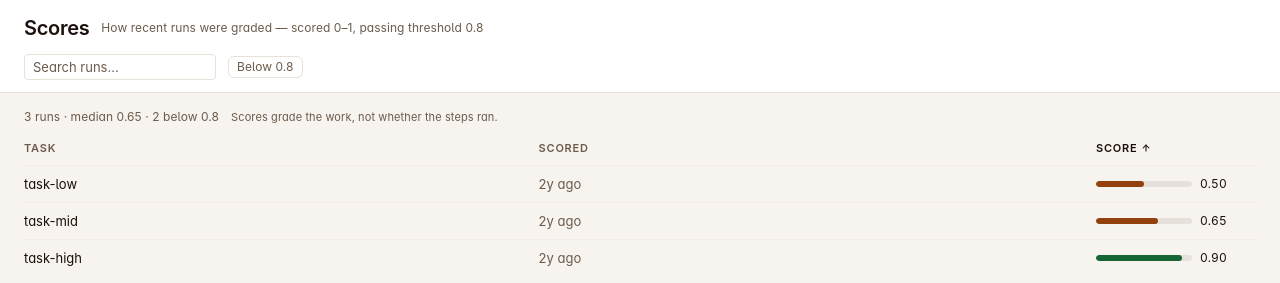
Test: StudioIndexPage (Scores list) › below-threshold filter › restores above-threshold rows when the filter is toggled off
Click the button with test id "studio-index-below-filter" at (265, 67), box [228,56,303,78]
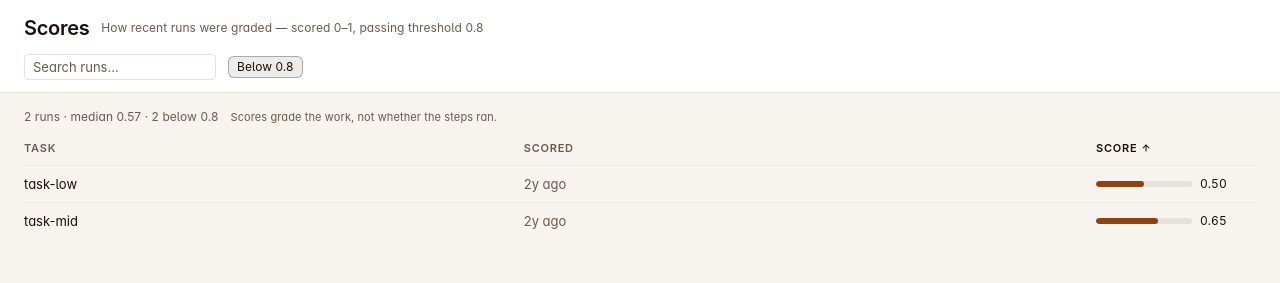
Check: the text "task-high" is gone
Click the button with test id "studio-index-below-filter" at (265, 67), box [228,56,303,78]
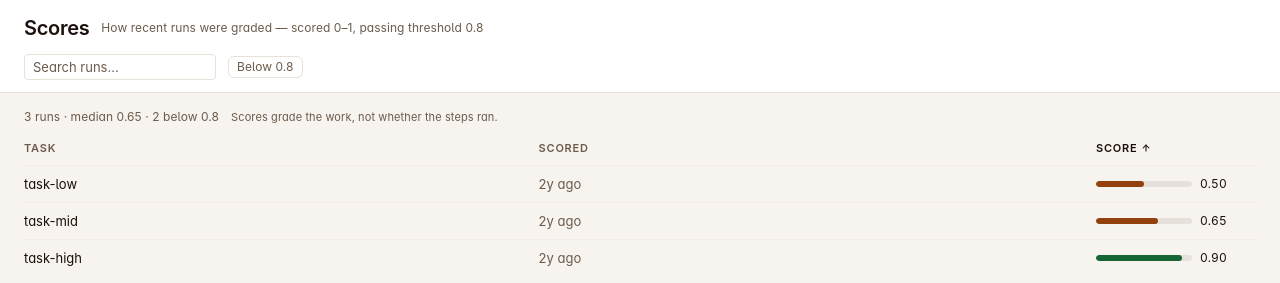
Check: the text "task-high" is shown, box [24,250,82,266]
